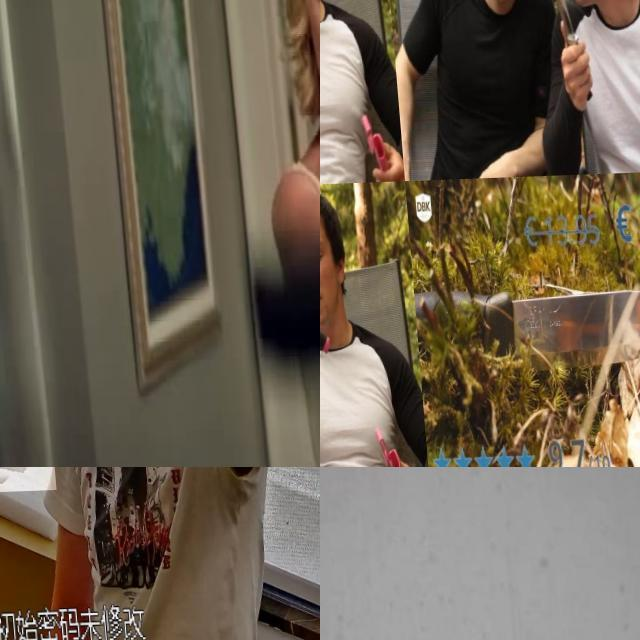-: (480, 284, 640, 368), (539, 0, 593, 111), (320, 297, 361, 365), (320, 0, 364, 41)
gun-knife-thesis - v11 Yolov5 augmented: (0, 467, 96, 580)
